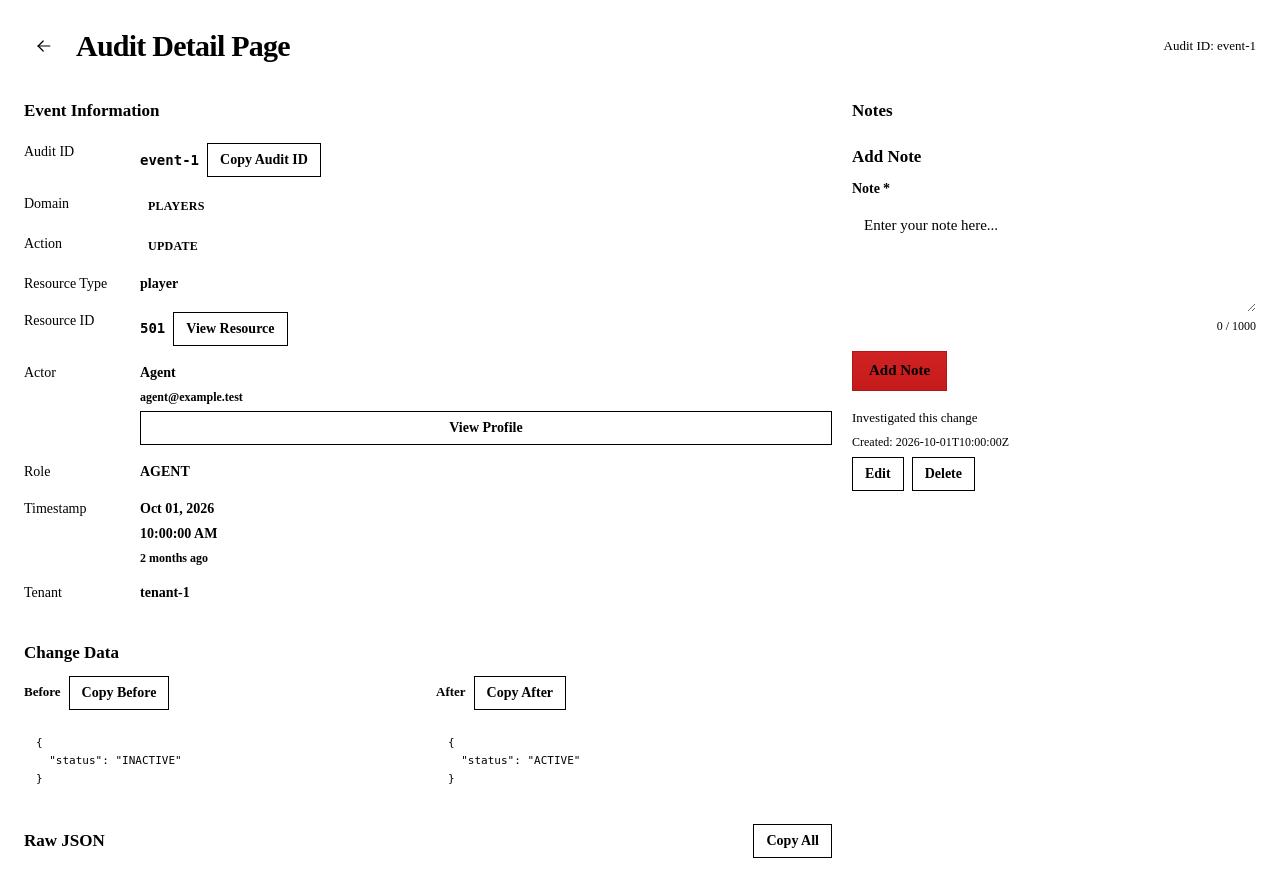
Test: audit detail and annotations contracts › note create/update/delete trim inputs and refetch with original mutation shapes
Later steps or results of the test are not shown.
Type " Follow up " into the text box labelled "Note" at (1054, 258), box [852,205,1256,312]
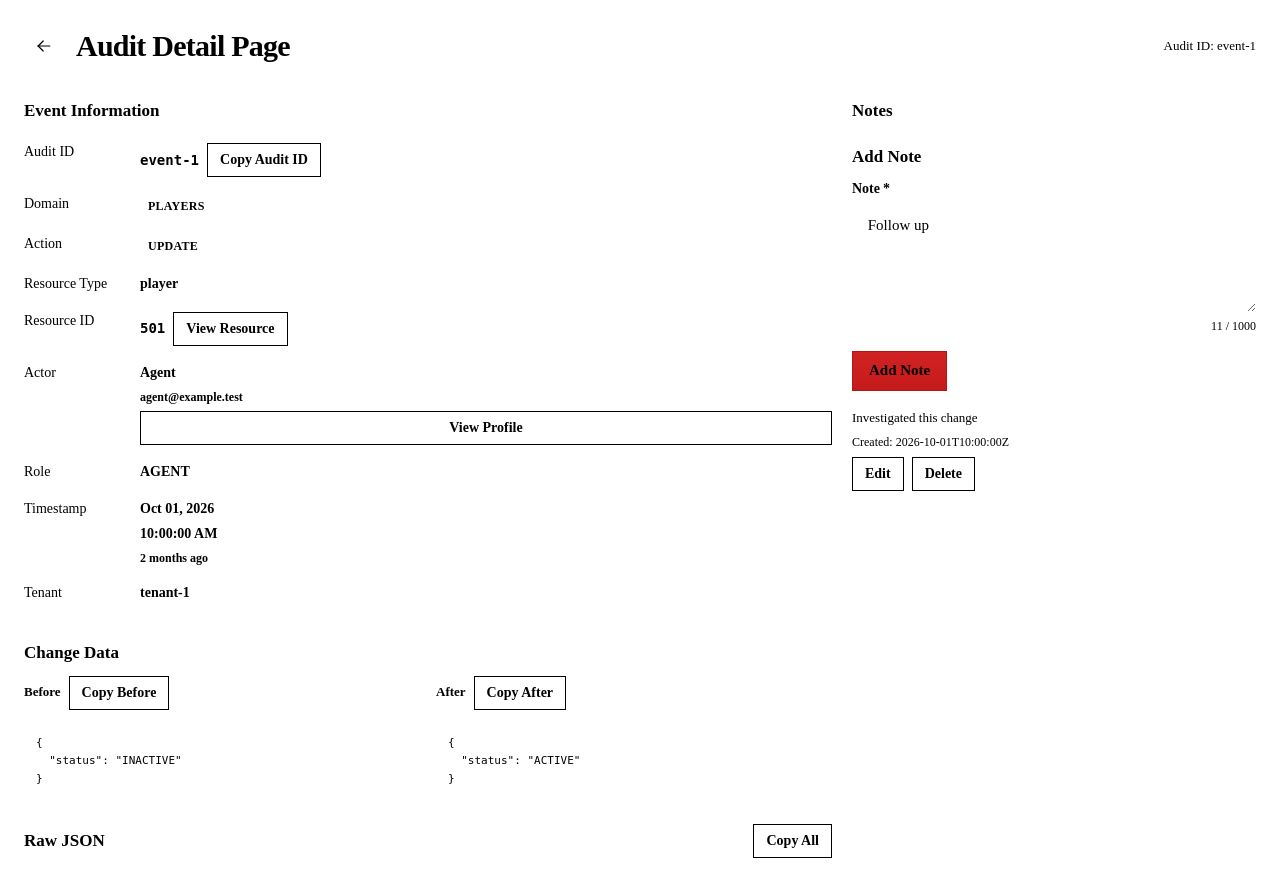
Click the button "Add Note" at (900, 371), box [852,351,947,391]
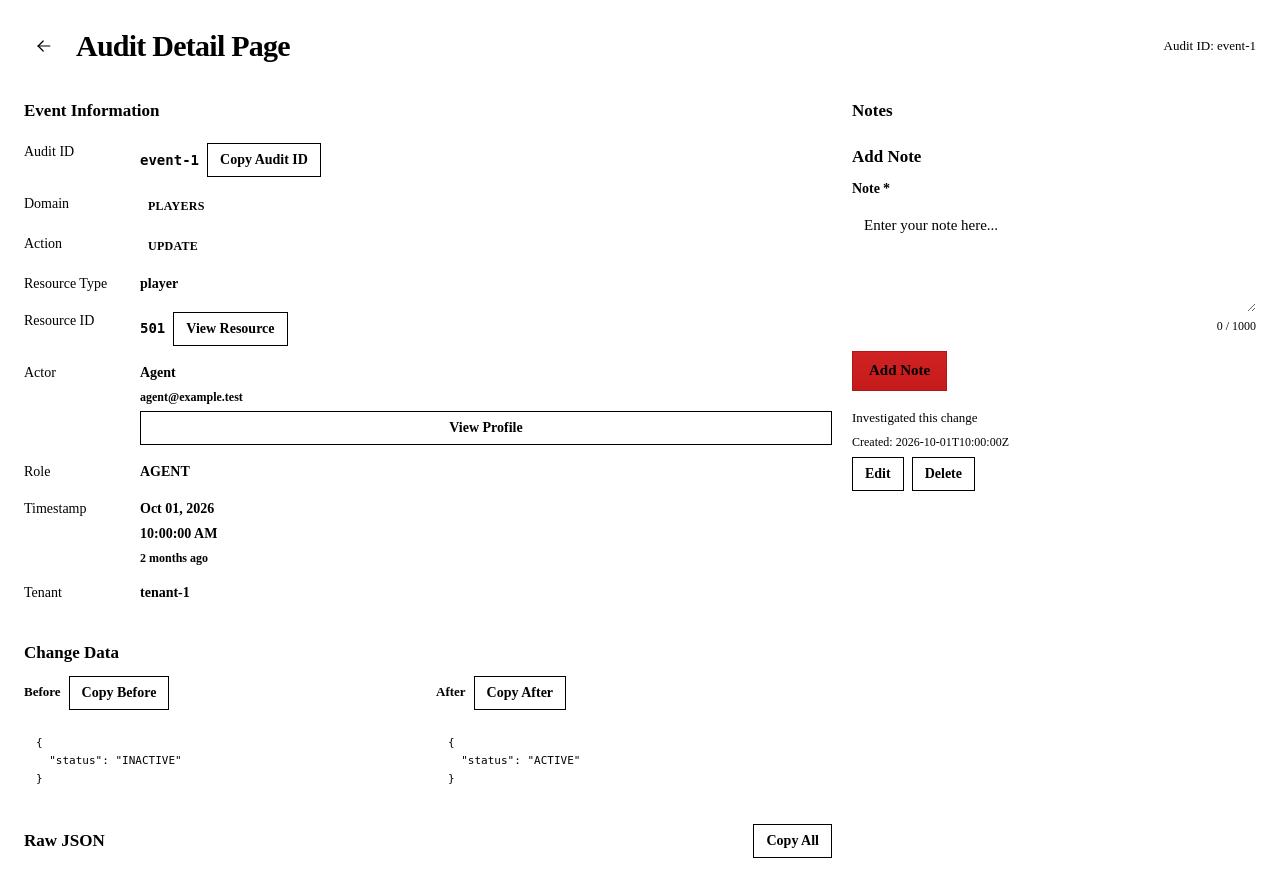
Click the button "Edit" at (878, 474), box [852,457,904,491]
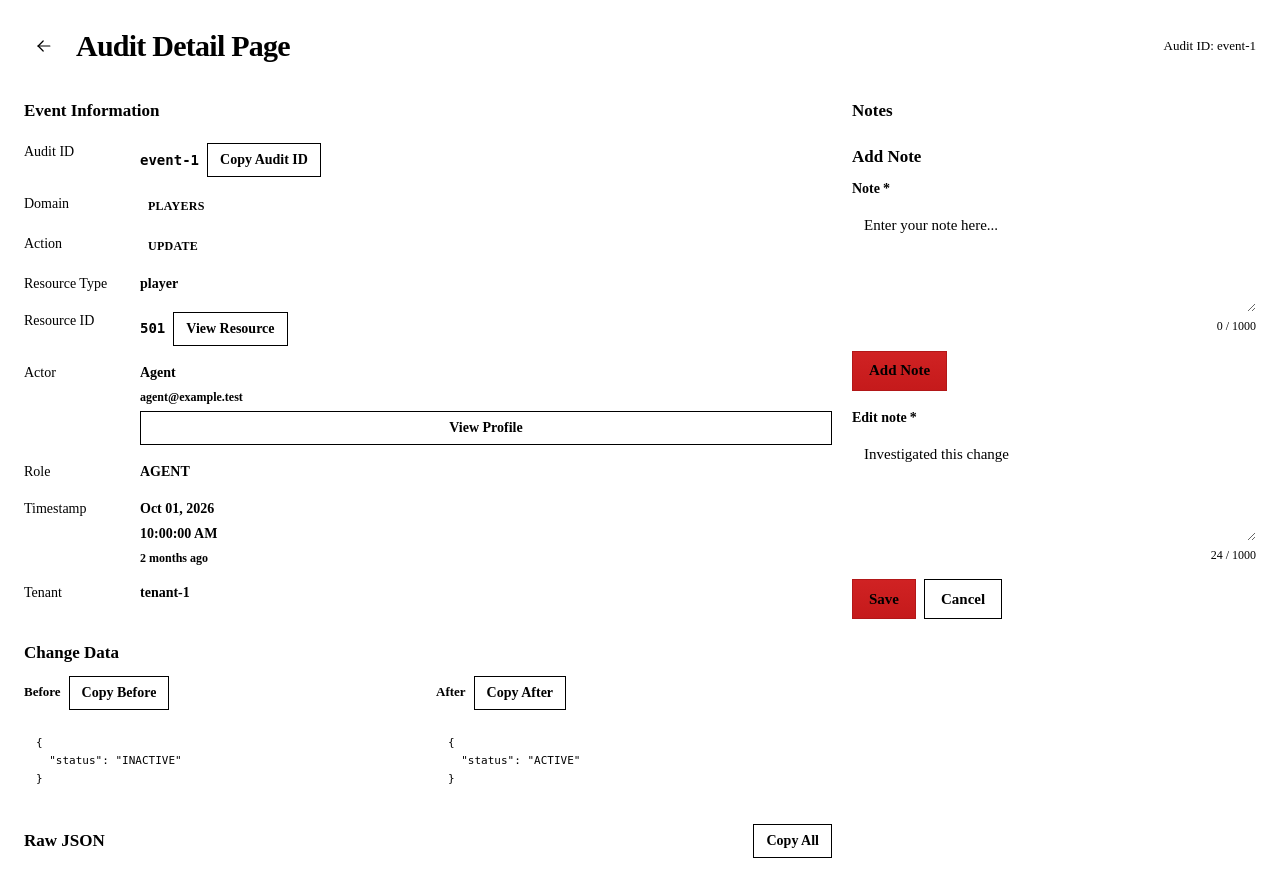
Replace the text in the text box labelled "Edit note" with " Resolved " at (1054, 487), box [852,434,1256,541]
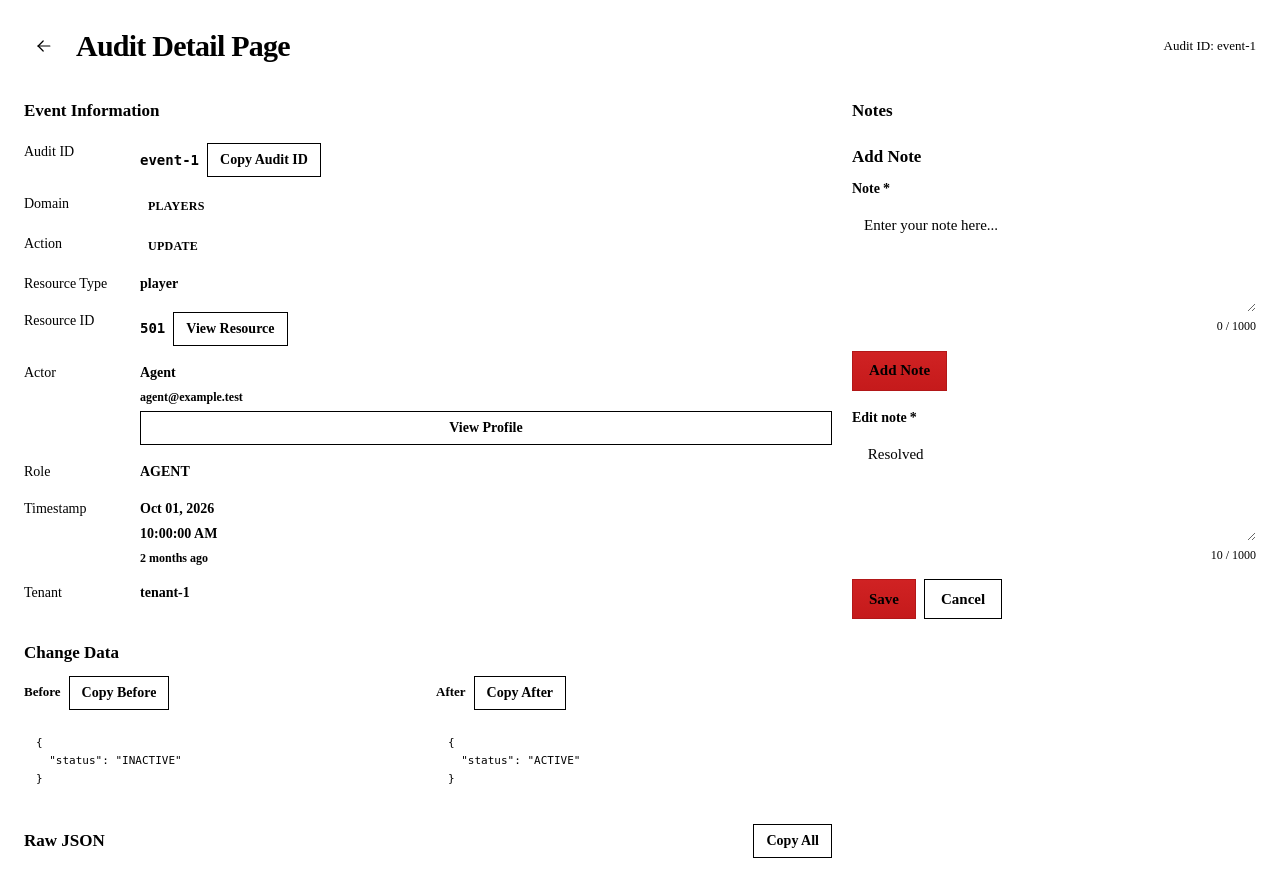
Click the button "Save" at (884, 599), box [852,579,916,619]
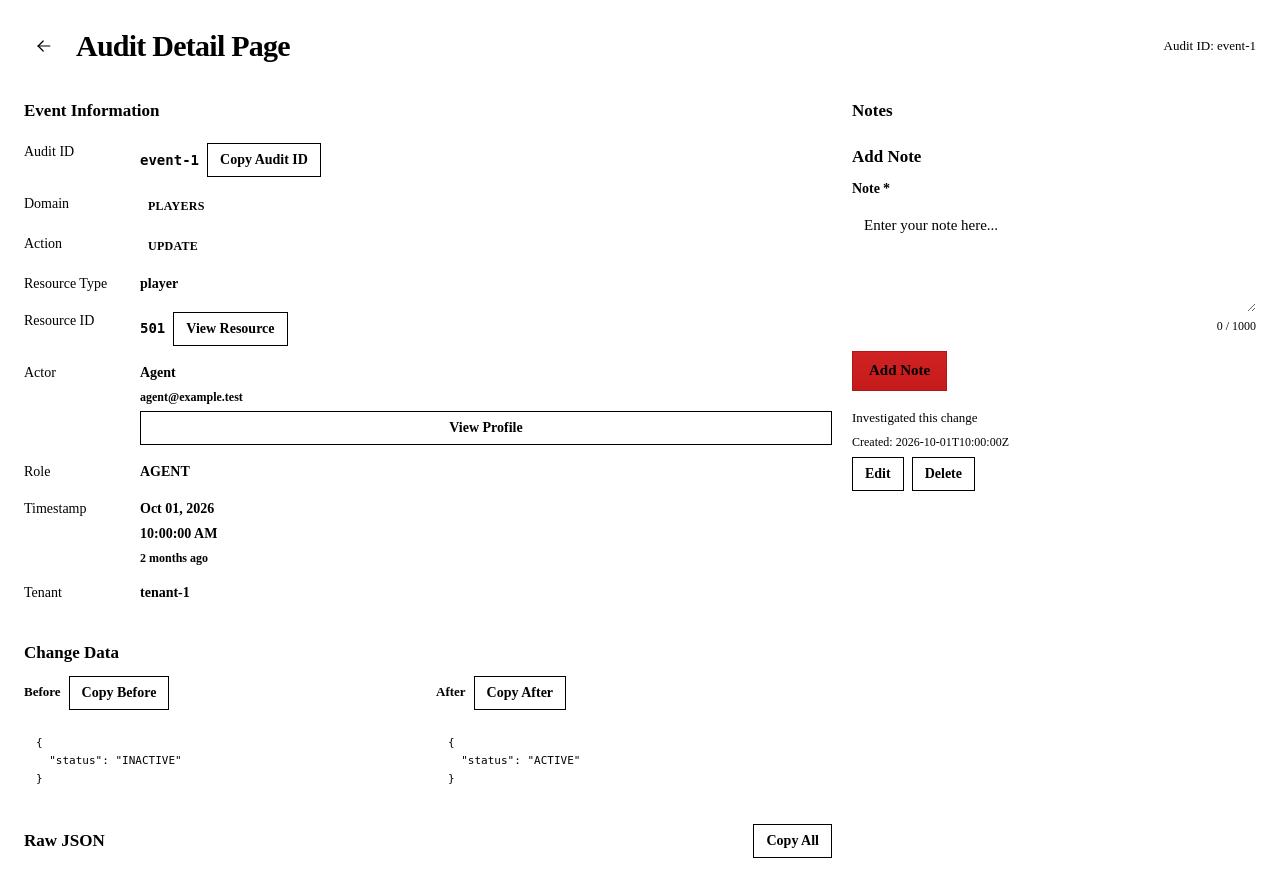
Check: the label "Edit note" is gone
